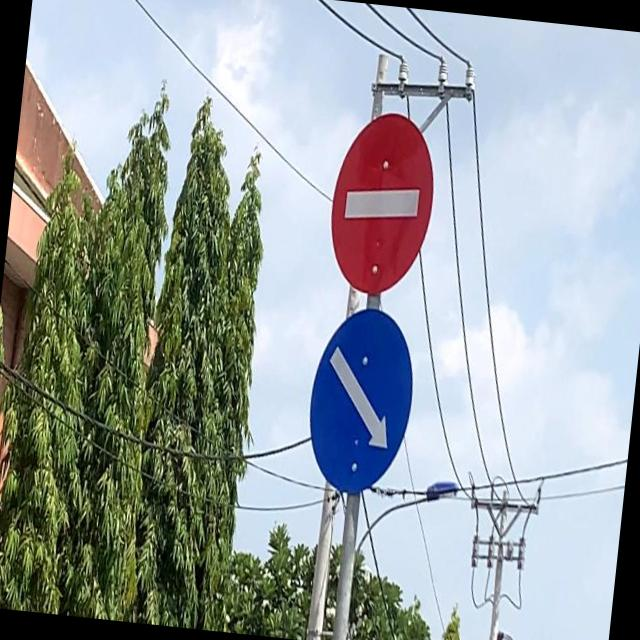P-102: (322, 105, 441, 298)
R-302a: (300, 300, 422, 500)
